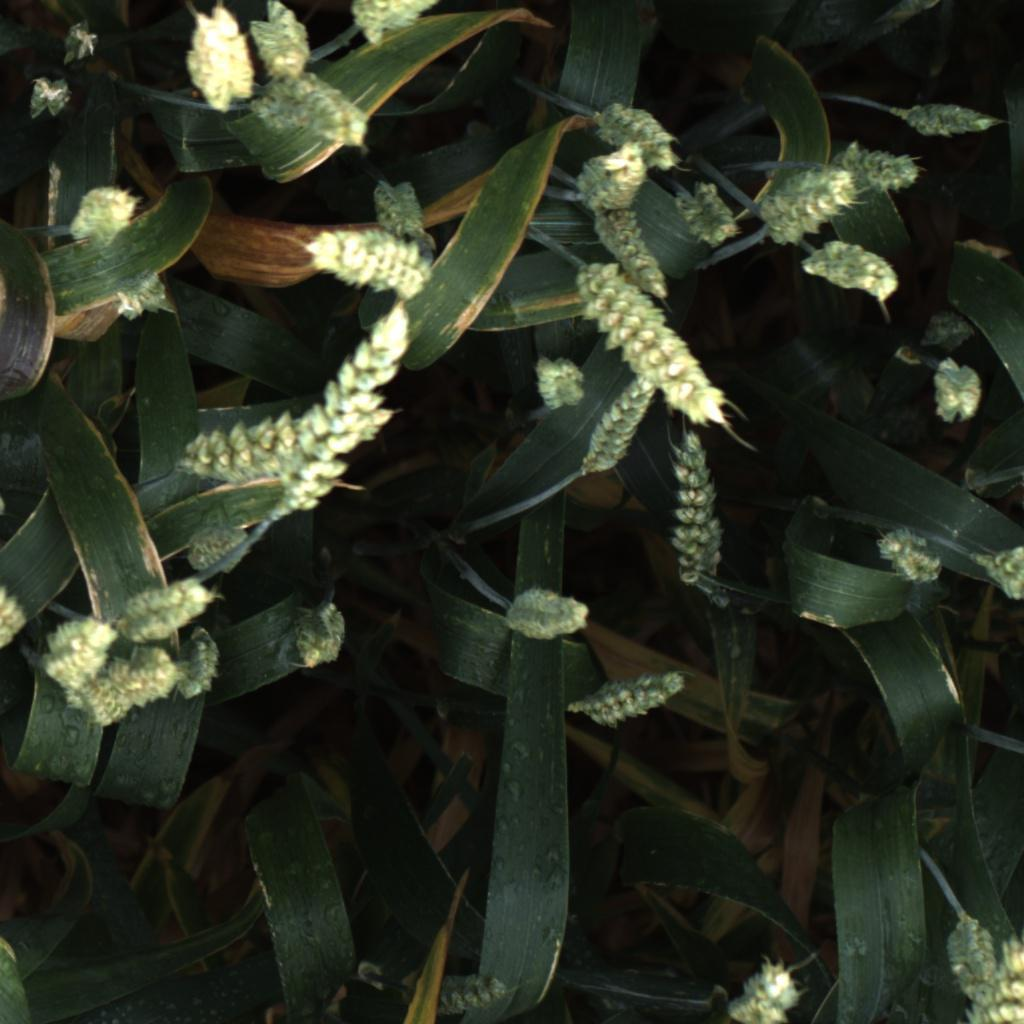0-0: (267, 313, 420, 526), (567, 263, 746, 435), (173, 398, 399, 488), (304, 224, 442, 307), (249, 75, 373, 150), (667, 432, 724, 592), (755, 161, 859, 247), (583, 370, 664, 480), (179, 0, 257, 109), (586, 205, 672, 303), (568, 664, 689, 732), (594, 96, 688, 178), (802, 236, 903, 311), (117, 579, 221, 646), (36, 611, 122, 691), (500, 581, 596, 648), (99, 648, 178, 724), (940, 915, 1004, 1006), (567, 144, 651, 212), (832, 134, 921, 198), (246, 0, 317, 79), (890, 93, 1001, 143), (65, 182, 144, 252), (58, 665, 140, 730), (347, 0, 456, 48), (969, 540, 1024, 629), (728, 959, 802, 1024), (429, 967, 511, 1023), (925, 356, 989, 427), (673, 182, 741, 247), (289, 599, 351, 669), (367, 174, 432, 238), (876, 524, 944, 585), (168, 624, 224, 698), (178, 521, 257, 571), (111, 267, 170, 330), (526, 351, 589, 410), (56, 11, 109, 68), (0, 539, 26, 648), (26, 66, 74, 125), (925, 306, 978, 353)
